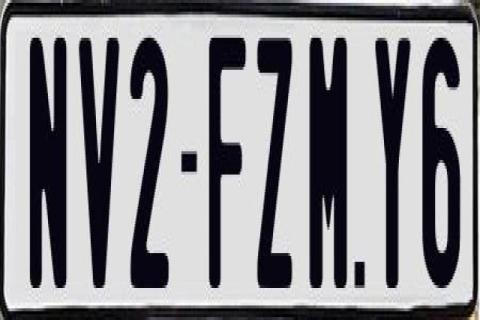0: (131, 29, 171, 294), (420, 35, 458, 303)
F: (209, 29, 252, 279)
M: (307, 38, 345, 291)
N: (30, 38, 69, 302)
V: (79, 35, 121, 303)
Y: (374, 35, 412, 294)
Z: (256, 35, 294, 291)
